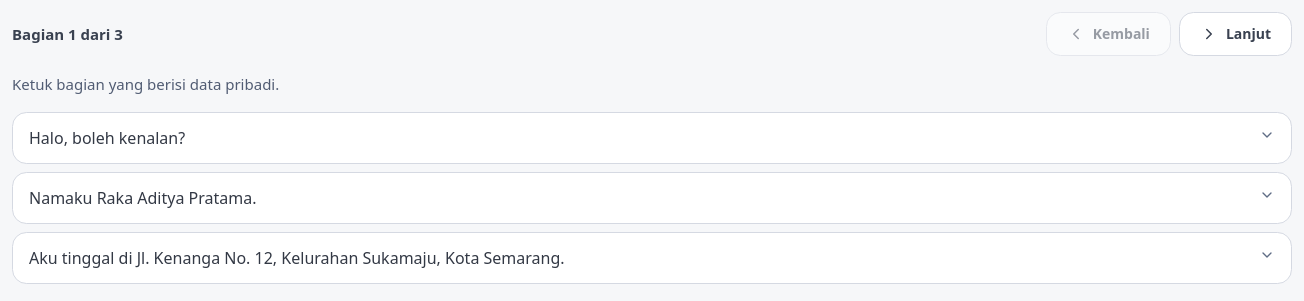
Test: TokenEditor › kembali ke bagian sebelumnya lewat tombol Kembali
Click the button "Lanjut" at (1235, 34), box [1179,12,1292,56]
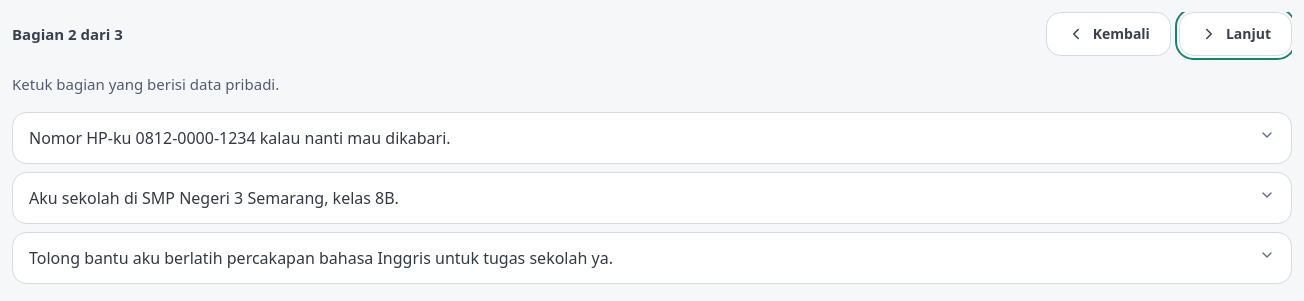
Click the button "Kembali" at (1108, 34), box [1046,12,1171,56]
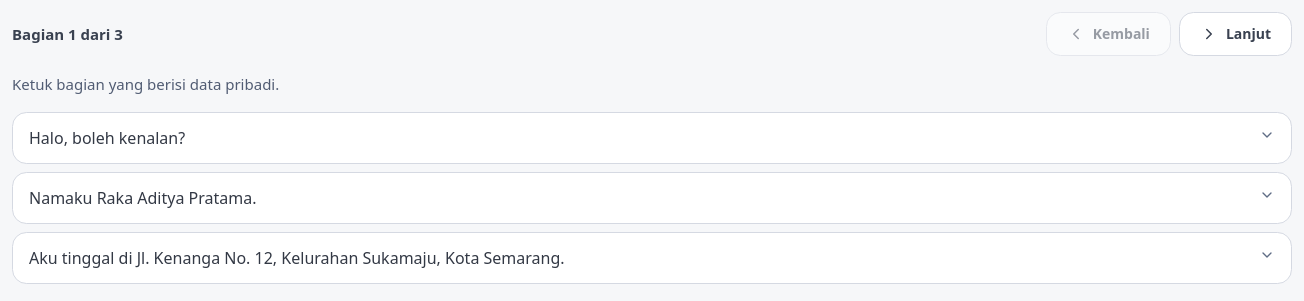
Now the button "Kembali" is disabled, box [1046,12,1171,56]
